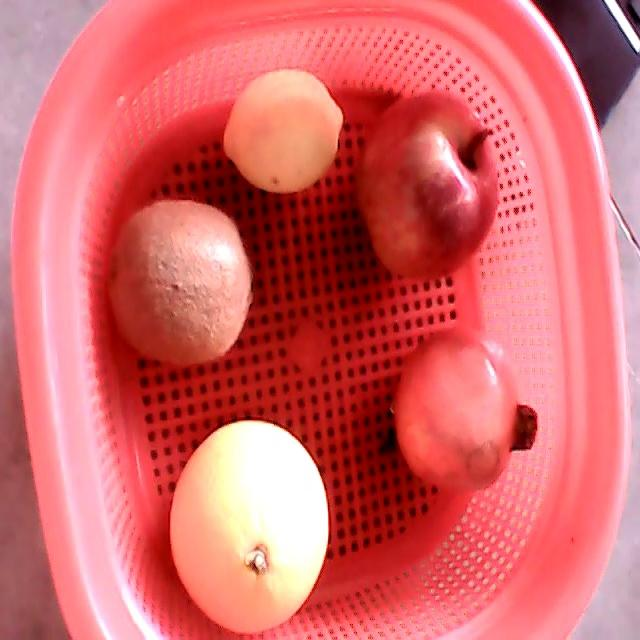apple: (356, 91, 502, 279)
kiwi: (106, 200, 254, 366)
lemon: (223, 71, 344, 195)
orange: (170, 417, 330, 635)
pomegranate: (395, 327, 539, 495)
